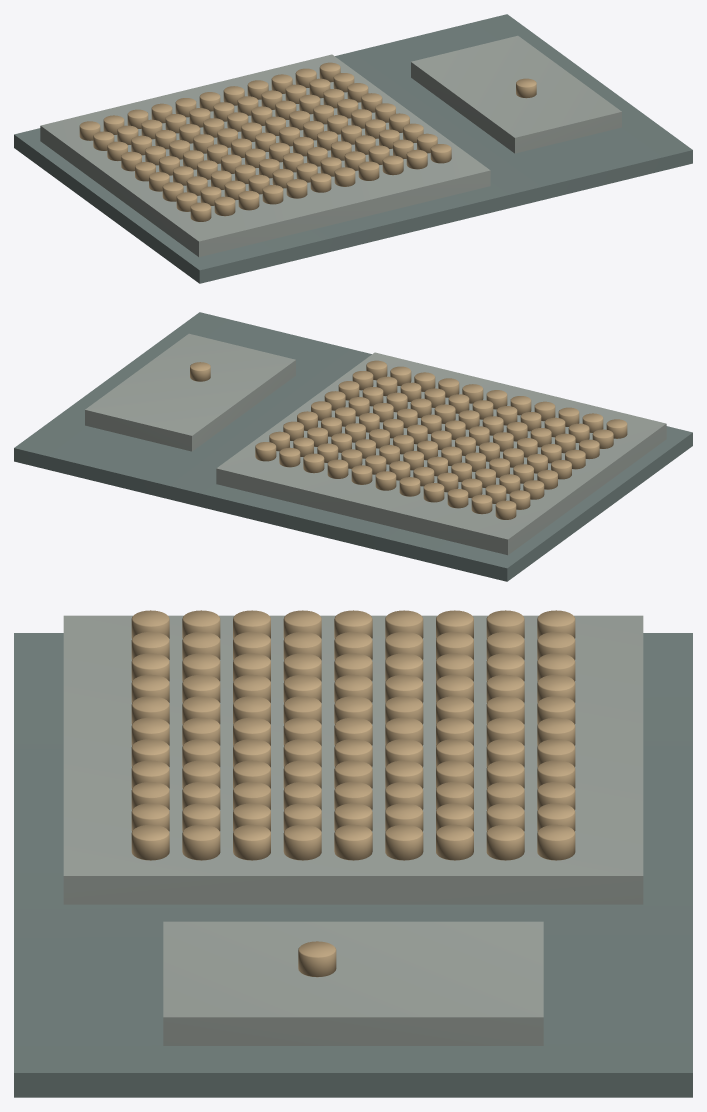
File: parables-flock.glb
The picture shows the model from 3 angles, top to bottom: view 1: azimuth 30°, elevation 25°; view 2: azimuth 150°, elevation 25°; view 3: azimuth 270°, elevation 25°; orthographic projection. The views are drawn at different scales.
Visible parts, largest first — view 1: parables-flock-parables-modern-dark-neutral-base, parables-flock-parables-modern-equal-neutral-counter, parables-flock-parables-modern-separated-counting-pads, parables-flock-parables-modern-separated-counting-pads.001; view 2: parables-flock-parables-modern-dark-neutral-base, parables-flock-parables-modern-equal-neutral-counter, parables-flock-parables-modern-separated-counting-pads, parables-flock-parables-modern-separated-counting-pads.001; view 3: parables-flock-parables-modern-dark-neutral-base, parables-flock-parables-modern-separated-counting-pads, parables-flock-parables-modern-equal-neutral-counter, parables-flock-parables-modern-separated-counting-pads.001, parables-flock-parables-modern-equal-neutral-counter.001.
Part boxes in pixels (x1,y1,x2,y2): parables-flock-parables-modern-dark-neutral-base: [14, 14, 692, 283]; parables-flock-parables-modern-equal-neutral-counter: [79, 62, 451, 221]; parables-flock-parables-modern-separated-counting-pads: [40, 54, 490, 257]; parables-flock-parables-modern-separated-counting-pads.001: [411, 35, 621, 153]; parables-flock-parables-modern-dark-neutral-base: [14, 312, 692, 581]; parables-flock-parables-modern-equal-neutral-counter: [255, 360, 627, 519]; parables-flock-parables-modern-separated-counting-pads: [216, 352, 666, 555]; parables-flock-parables-modern-separated-counting-pads.001: [85, 333, 295, 451]; parables-flock-parables-modern-dark-neutral-base: [14, 633, 692, 1097]; parables-flock-parables-modern-separated-counting-pads: [63, 615, 643, 904]; parables-flock-parables-modern-equal-neutral-counter: [131, 610, 575, 860]; parables-flock-parables-modern-separated-counting-pads.001: [163, 921, 543, 1045]; parables-flock-parables-modern-equal-neutral-counter.001: [298, 941, 336, 977].
Size of the model in its own units: 1.15 by 0.09 by 0.75.
